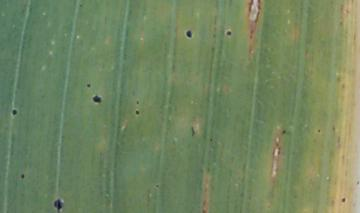tarspot: (53, 196, 63, 213), (91, 94, 102, 104), (189, 124, 196, 137), (184, 29, 193, 39), (10, 108, 18, 116), (225, 29, 232, 37), (19, 172, 26, 180), (133, 109, 140, 117), (340, 196, 347, 204), (280, 128, 287, 135), (135, 99, 141, 106), (154, 182, 160, 189), (208, 136, 213, 143), (316, 127, 320, 134), (86, 83, 91, 88)
